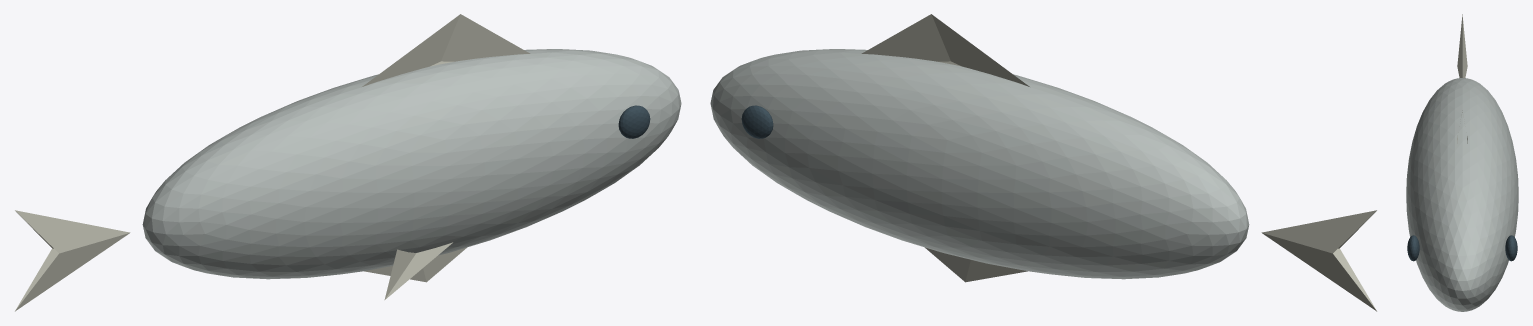
File: Ikan_Siakap.glb
3 renders of one model, left to right at view 1: azimuth 30°, elevation 25°; view 2: azimuth 150°, elevation 25°; view 3: azimuth 270°, elevation 25°, orthographic. The views are drawn at different scales.
Visible parts, largest first — view 1: Part_00, Part_01, Part_02, Part_04, Part_05, Part_03; view 2: Part_00, Part_01, Part_02, Part_03, Part_06; view 3: Part_00, Part_01, Part_05, Part_06.
Boxes of the visible parts, x1,y1,x2,y2 form: Part_00: (142, 49, 681, 279); Part_01: (15, 210, 130, 311); Part_02: (362, 14, 530, 86); Part_04: (384, 242, 452, 300); Part_05: (618, 105, 650, 138); Part_03: (364, 247, 466, 282); Part_00: (710, 49, 1249, 279); Part_01: (1261, 210, 1376, 311); Part_02: (861, 14, 1029, 86); Part_03: (925, 247, 1027, 282); Part_06: (741, 105, 773, 138); Part_00: (1406, 78, 1518, 311); Part_01: (1457, 14, 1467, 77); Part_05: (1407, 235, 1419, 261); Part_06: (1505, 235, 1517, 261).
Size of the model in its own units: 1.64 by 0.6149 by 0.3268.
